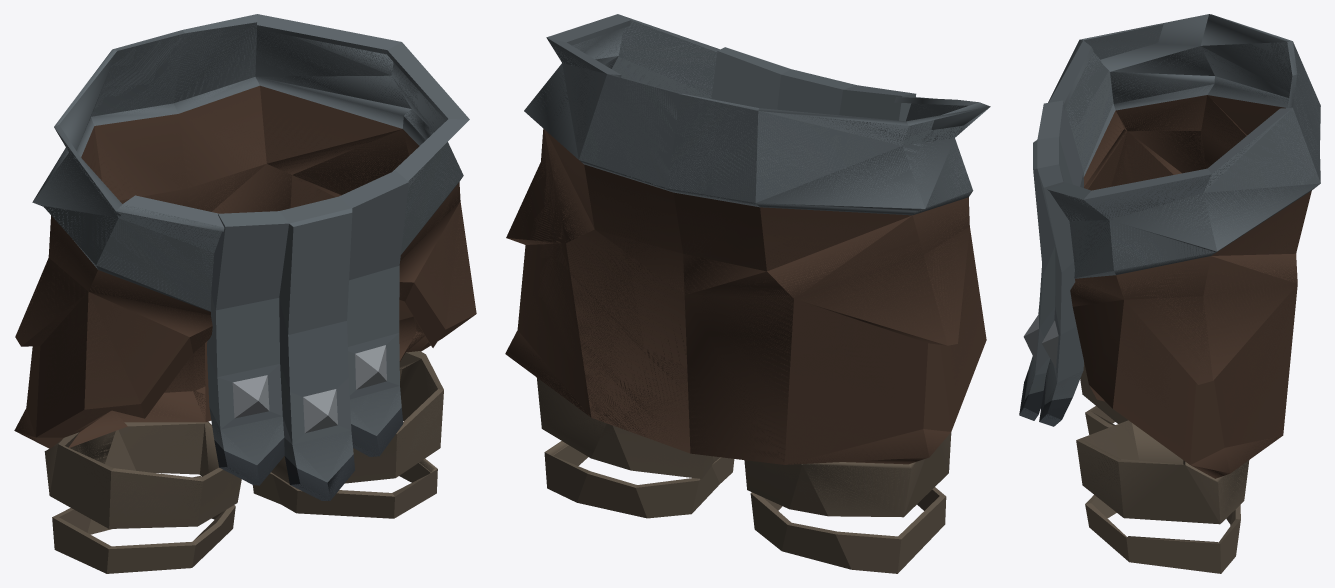
File: Chr_Hips_Female_01_Drop.fbx
The picture shows the model from 3 angles, left to right: view 1: azimuth 30°, elevation 25°; view 2: azimuth 150°, elevation 25°; view 3: azimuth 270°, elevation 25°; orthographic projection. The views are drawn at different scales.
Visible parts, largest first — view 1: Chr_Hips_Female_01_Static; view 2: Chr_Hips_Female_01_Static; view 3: Chr_Hips_Female_01_Static.
Boxes of the visible parts, bbox=[...] form: Chr_Hips_Female_01_Static: bbox=[14, 14, 476, 573]; Chr_Hips_Female_01_Static: bbox=[505, 14, 990, 573]; Chr_Hips_Female_01_Static: bbox=[1019, 14, 1320, 573].
Bounding box in the file's own units: 45.88 × 46.03 × 29.8.
